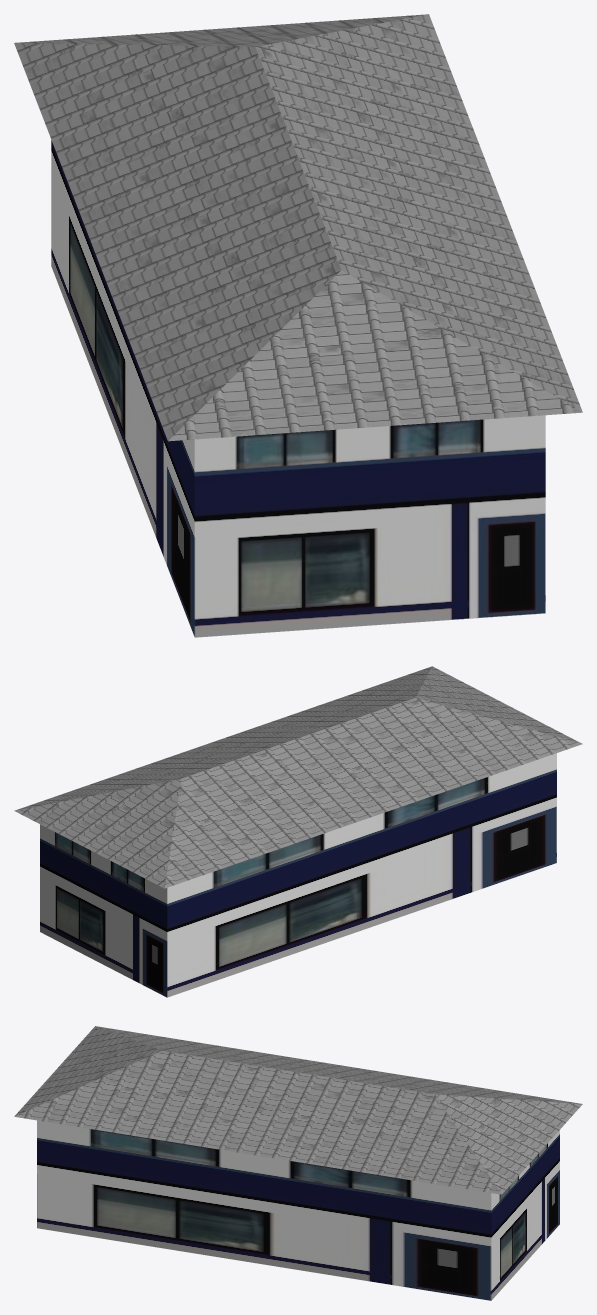
The picture shows the model from 3 angles, top to bottom: view 1: azimuth 30°, elevation 25°; view 2: azimuth 150°, elevation 25°; view 3: azimuth 270°, elevation 25°; orthographic projection. The views are drawn at different scales.
Visible parts, largest first — view 1: CityEngineMaterial_4_m, CityEngineMaterial_2_m; view 2: CityEngineMaterial_2_m, CityEngineMaterial_4_m; view 3: CityEngineMaterial_2_m, CityEngineMaterial_4_m.
Part boxes in pixels (bbox=[...]): CityEngineMaterial_4_m: bbox=[14, 14, 582, 441]; CityEngineMaterial_2_m: bbox=[51, 140, 545, 637]; CityEngineMaterial_2_m: bbox=[40, 753, 556, 997]; CityEngineMaterial_4_m: bbox=[14, 666, 582, 888]; CityEngineMaterial_2_m: bbox=[37, 1120, 559, 1300]; CityEngineMaterial_4_m: bbox=[14, 1026, 582, 1194].
Bounding box in the file's own units: 21.14 × 8.98 × 30.12.
